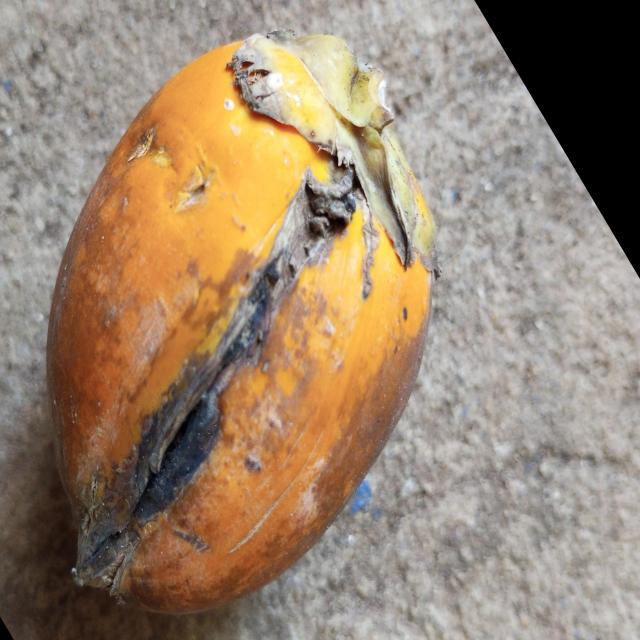damaged: (47, 35, 438, 612)
